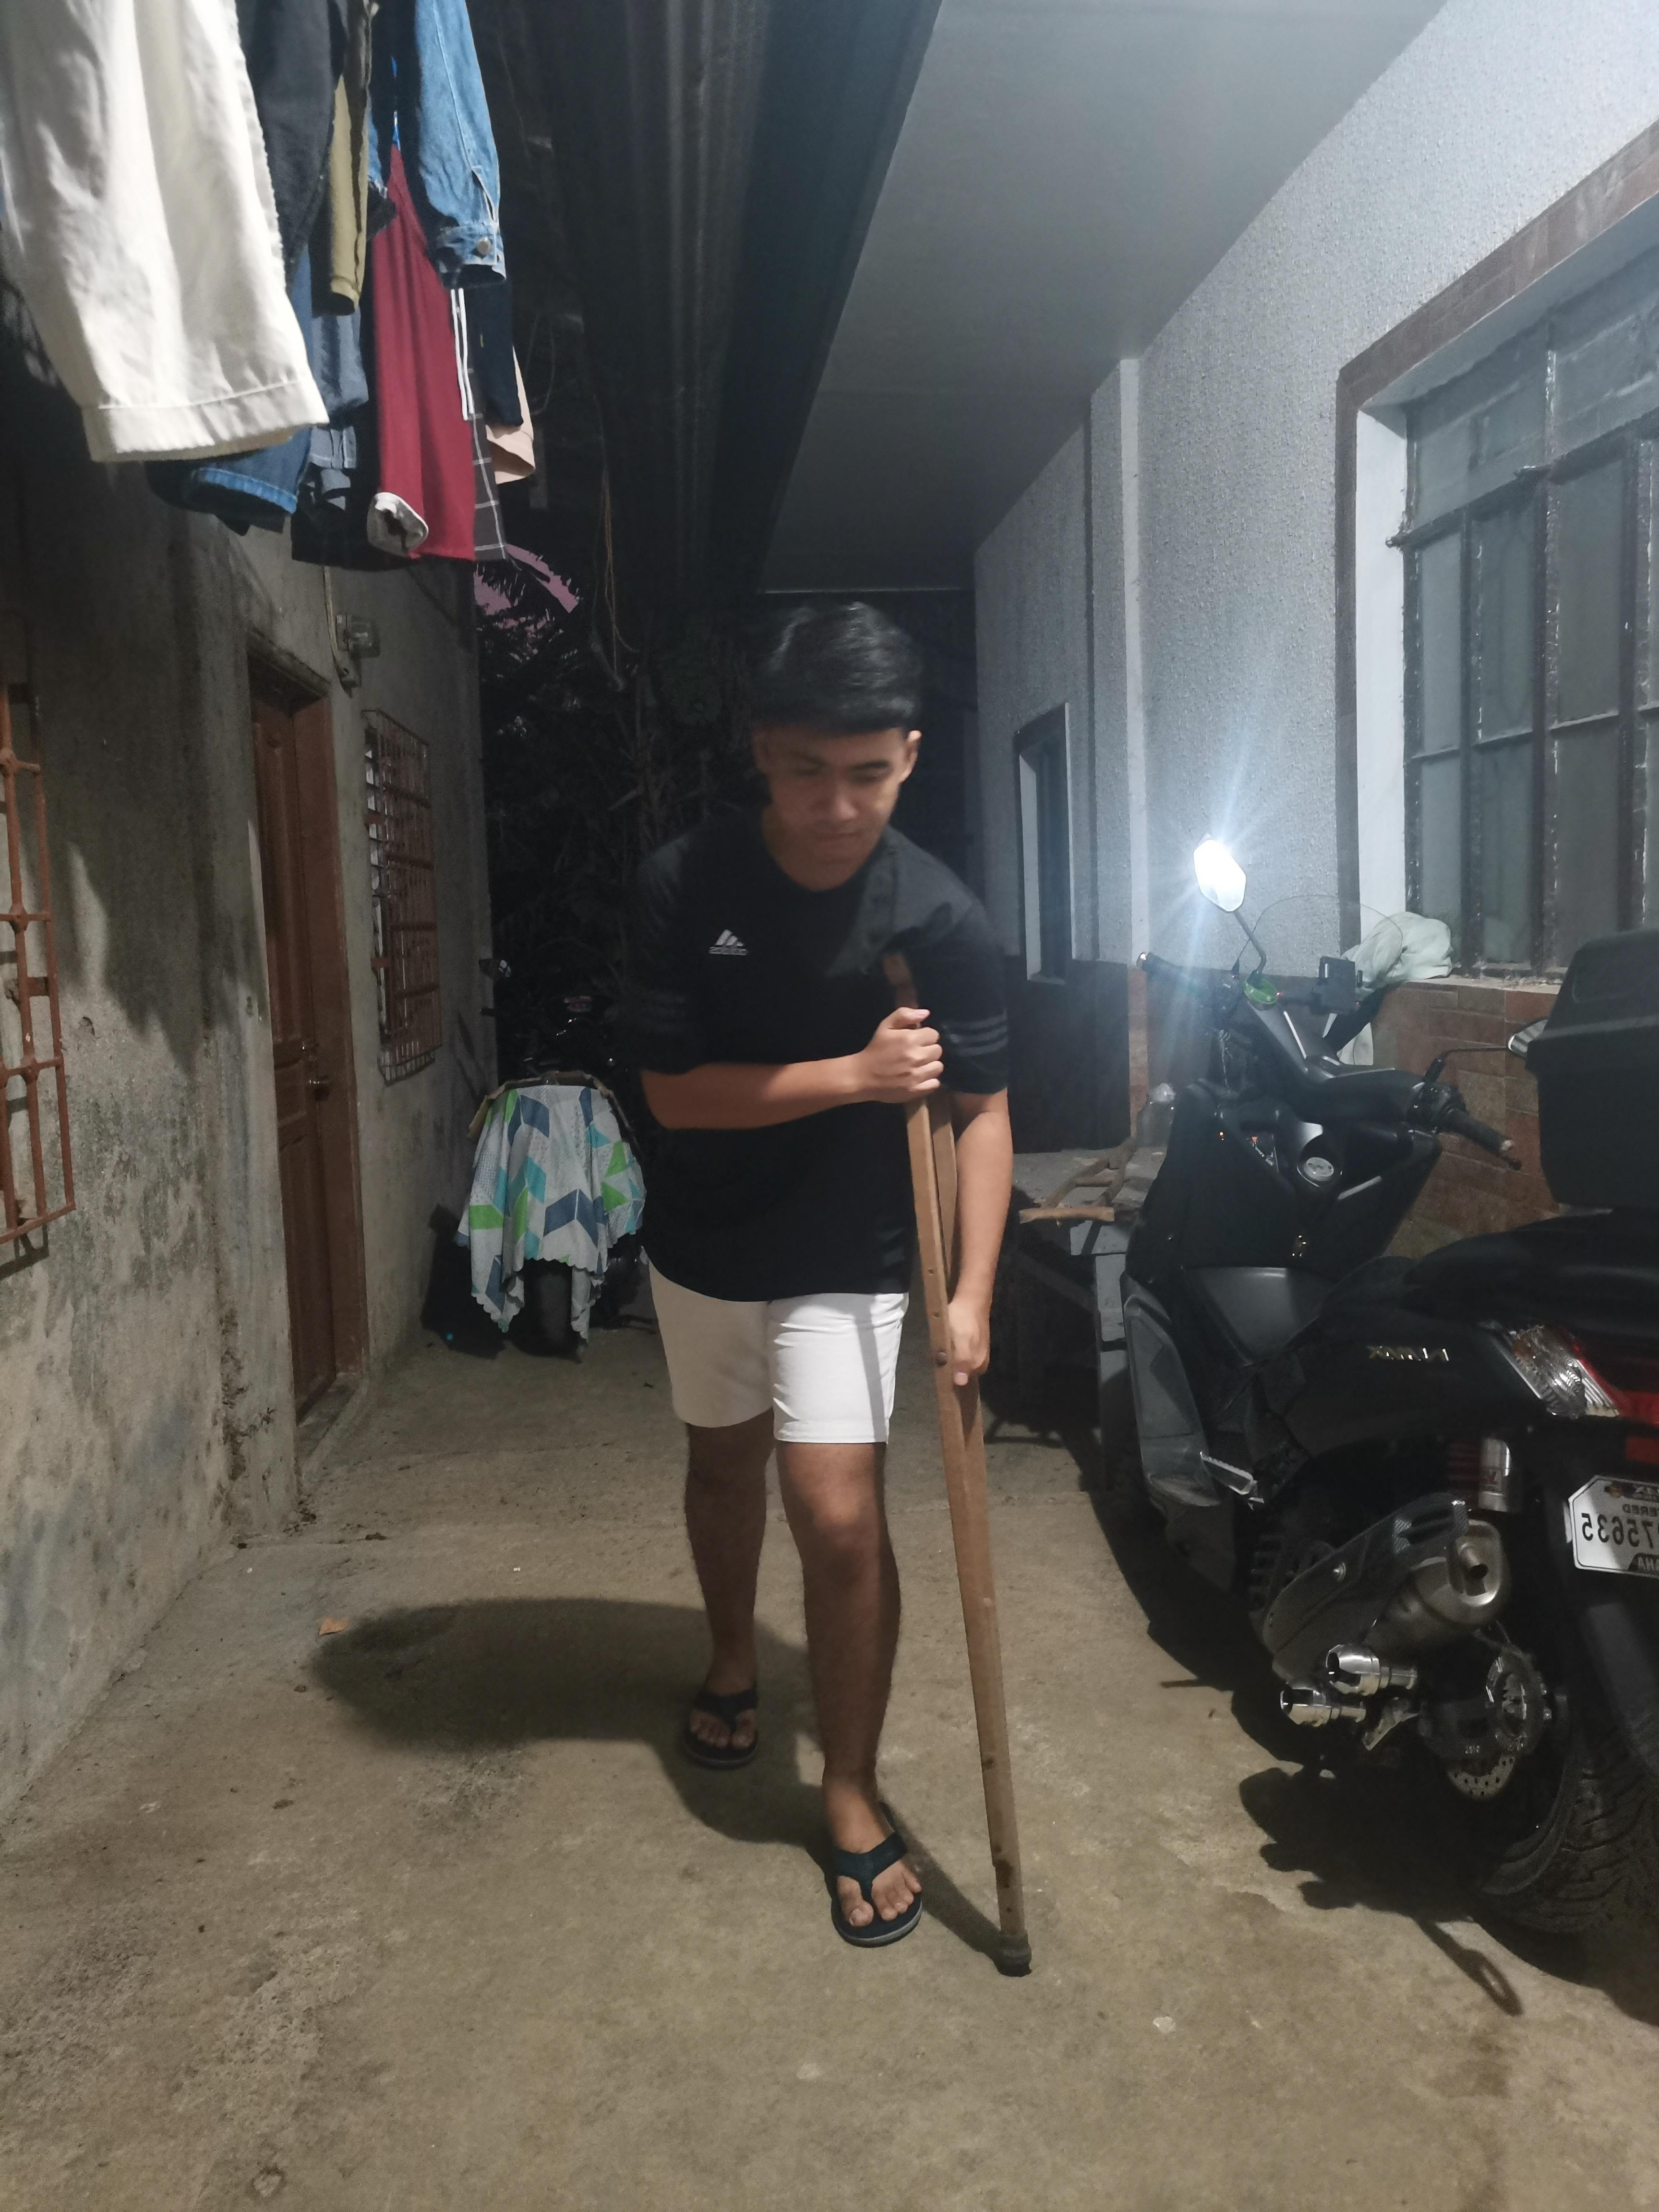crutches: (582, 587, 1060, 2005)
